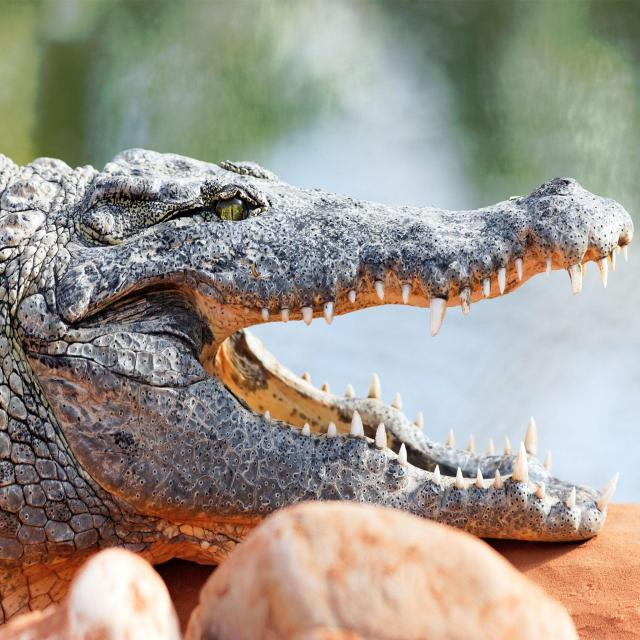crocodile: (0, 115, 640, 623)
